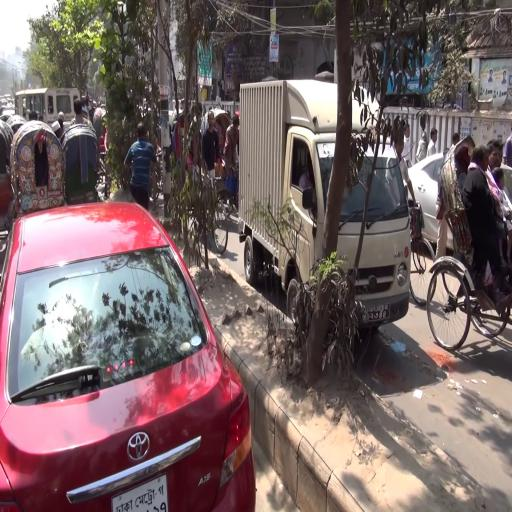car: (1, 196, 258, 508)
minibus: (13, 88, 82, 128)
pickup: (235, 81, 417, 344)
rickshaw: (428, 130, 512, 362), (10, 118, 68, 220), (203, 107, 241, 215), (61, 124, 104, 203)
